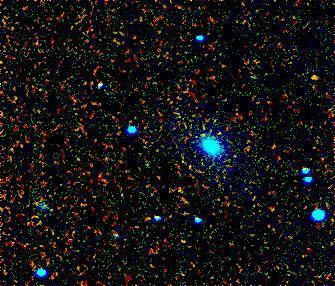star: (304, 63, 334, 93)
